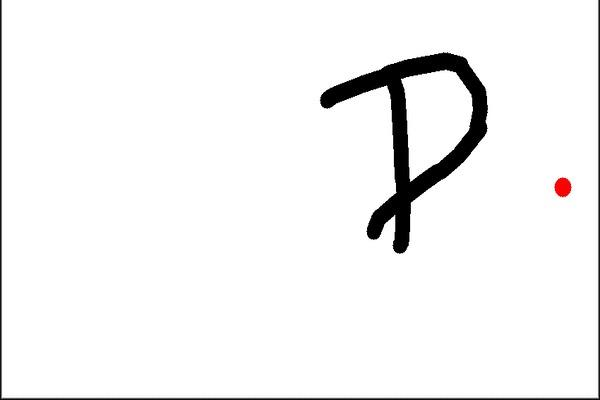D: (316, 47, 494, 258)
